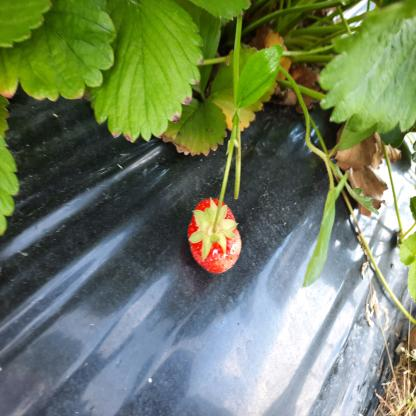ripe: (189, 200, 243, 270)
